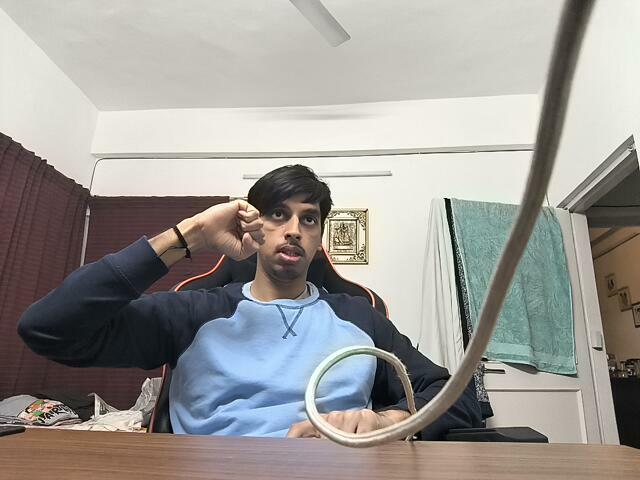DOWN: (195, 185, 281, 289)
